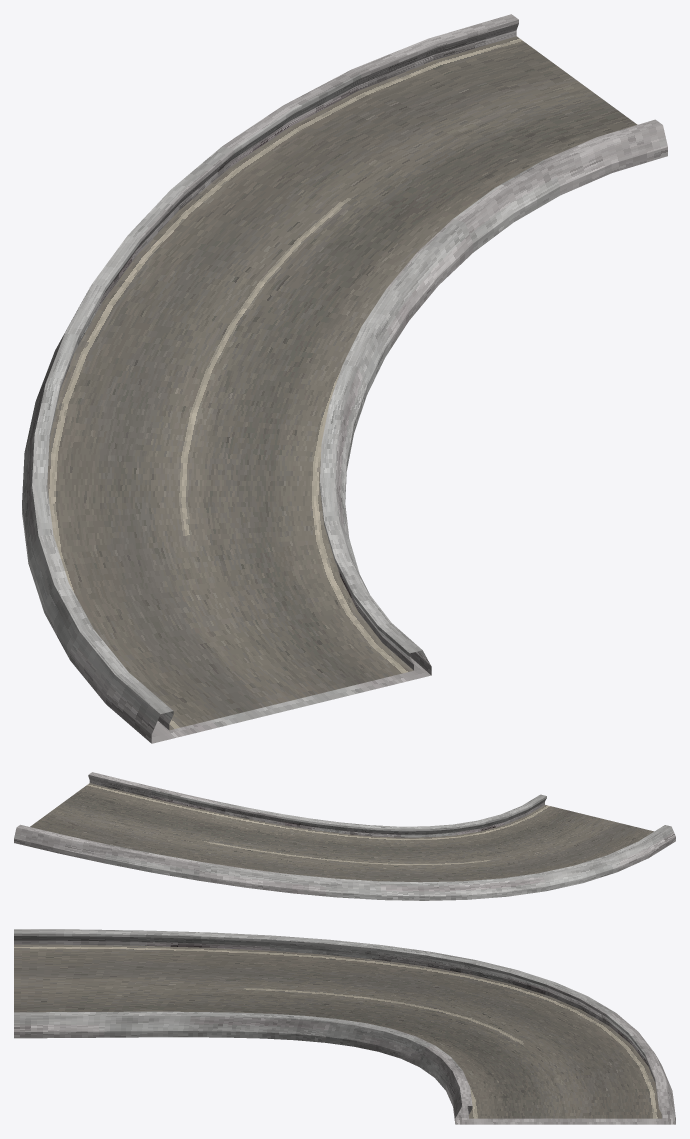
File: road-Turn-Flat-Flat-Up2-Right-Size3.glb
3 renders of one model, top to bottom at view 1: azimuth 30°, elevation 25°; view 2: azimuth 150°, elevation 25°; view 3: azimuth 270°, elevation 25°, orthographic. The views are drawn at different scales.
Visible parts, largest first — view 1: road-Turn-Flat-Flat-Up2-Right-Size3; view 2: road-Turn-Flat-Flat-Up2-Right-Size3; view 3: road-Turn-Flat-Flat-Up2-Right-Size3.
Boxes of the visible parts, x1,y1,x2,y2 form: road-Turn-Flat-Flat-Up2-Right-Size3: (22, 14, 667, 743); road-Turn-Flat-Flat-Up2-Right-Size3: (14, 772, 675, 900); road-Turn-Flat-Flat-Up2-Right-Size3: (14, 929, 675, 1124).
Bounding box in the file's own units: 3 × 0.5938 × 3.
2 materials, 2 textured.
